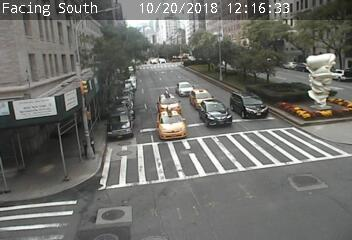car: (230, 91, 269, 119), (157, 107, 186, 140), (199, 100, 232, 126), (158, 88, 180, 114), (190, 89, 214, 109), (175, 82, 194, 97)
